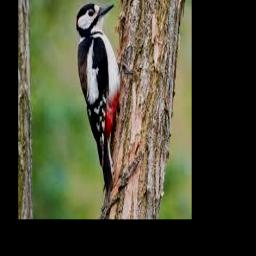Woodpecker: (76, 4, 121, 194)
